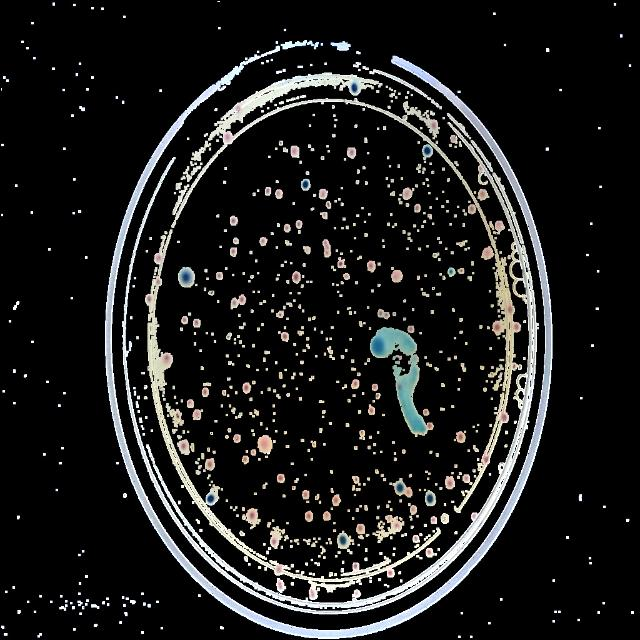colony: (370, 336, 390, 359), (178, 268, 194, 286), (259, 436, 273, 452), (424, 492, 436, 506), (247, 509, 260, 521), (233, 103, 244, 115), (498, 412, 509, 423), (422, 145, 432, 157), (395, 482, 405, 494), (482, 248, 493, 258), (445, 478, 455, 489), (403, 188, 412, 200), (482, 454, 491, 466), (392, 271, 402, 281), (162, 354, 172, 364), (154, 253, 164, 263), (492, 322, 502, 332), (456, 432, 466, 442), (338, 535, 348, 545), (331, 495, 341, 505), (478, 190, 488, 200), (224, 132, 232, 144), (309, 588, 317, 600), (207, 494, 216, 504), (180, 441, 188, 452), (290, 146, 298, 156), (293, 272, 301, 282), (430, 120, 438, 130), (506, 305, 514, 315), (410, 505, 418, 515), (206, 459, 214, 468), (352, 82, 358, 94), (319, 189, 326, 199), (394, 521, 401, 531), (348, 149, 356, 157), (302, 180, 310, 188), (260, 237, 268, 245), (230, 299, 238, 307), (193, 411, 201, 419), (430, 516, 438, 524), (426, 549, 434, 557), (277, 582, 285, 590), (305, 513, 313, 521), (495, 222, 503, 230), (468, 205, 476, 213), (243, 383, 250, 392), (406, 487, 412, 497), (274, 566, 284, 572), (276, 475, 286, 481), (324, 512, 331, 520), (231, 217, 237, 226), (276, 190, 282, 198), (230, 248, 236, 256), (284, 224, 290, 232), (296, 220, 302, 228), (368, 262, 374, 270), (239, 296, 245, 304), (146, 295, 152, 303), (155, 277, 161, 285), (427, 422, 433, 430), (352, 380, 358, 388), (242, 456, 248, 464), (187, 400, 193, 408), (202, 388, 208, 396), (324, 202, 332, 208), (414, 204, 420, 212), (451, 136, 457, 144), (282, 332, 288, 340), (514, 323, 520, 331), (462, 476, 470, 482), (471, 513, 477, 521), (388, 569, 394, 577), (271, 538, 277, 546), (303, 491, 309, 499), (174, 412, 180, 420), (304, 246, 310, 254), (194, 319, 200, 326), (321, 213, 327, 219), (324, 244, 330, 250), (338, 261, 344, 267), (217, 273, 223, 279), (448, 269, 454, 275), (384, 312, 390, 318), (408, 326, 414, 332), (372, 385, 378, 391), (368, 408, 374, 414), (423, 410, 429, 416), (234, 436, 240, 442), (511, 364, 517, 370), (353, 564, 359, 570), (354, 590, 360, 596), (358, 526, 364, 532), (182, 316, 186, 324), (266, 188, 270, 195), (234, 238, 238, 244), (324, 252, 330, 256), (324, 240, 328, 246), (344, 274, 348, 280), (378, 310, 382, 316), (250, 451, 256, 455), (479, 166, 483, 172), (279, 312, 283, 318), (354, 477, 358, 483), (386, 516, 392, 520), (414, 536, 418, 542), (315, 495, 319, 501), (312, 442, 316, 448), (376, 394, 380, 400), (458, 269, 464, 273), (432, 254, 438, 258), (361, 431, 364, 437), (403, 116, 407, 120), (519, 364, 521, 370), (491, 373, 494, 377), (376, 470, 378, 474), (460, 242, 462, 246)
